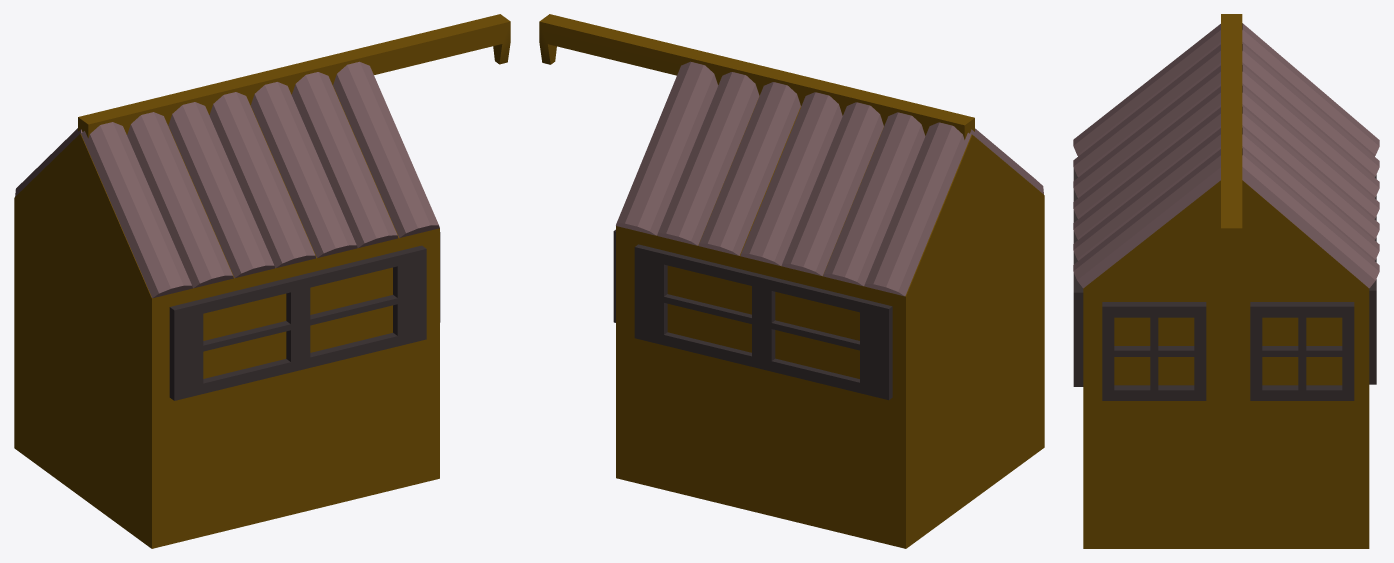
The model's file is Hut.fbx.
The picture shows the model from 3 angles, left to right: view 1: azimuth 30°, elevation 25°; view 2: azimuth 150°, elevation 25°; view 3: azimuth 270°, elevation 25°; orthographic projection. The views are drawn at different scales.
Parts seen in each view (by area): view 1: pCube15; view 2: pCube15; view 3: pCube15.
Part boxes in pixels (x1,y1,x2,y2): pCube15: (14, 14, 510, 548); pCube15: (539, 14, 1044, 548); pCube15: (1073, 14, 1379, 548).
Size of the model in its own units: 63.99 by 53.98 by 38.41.
